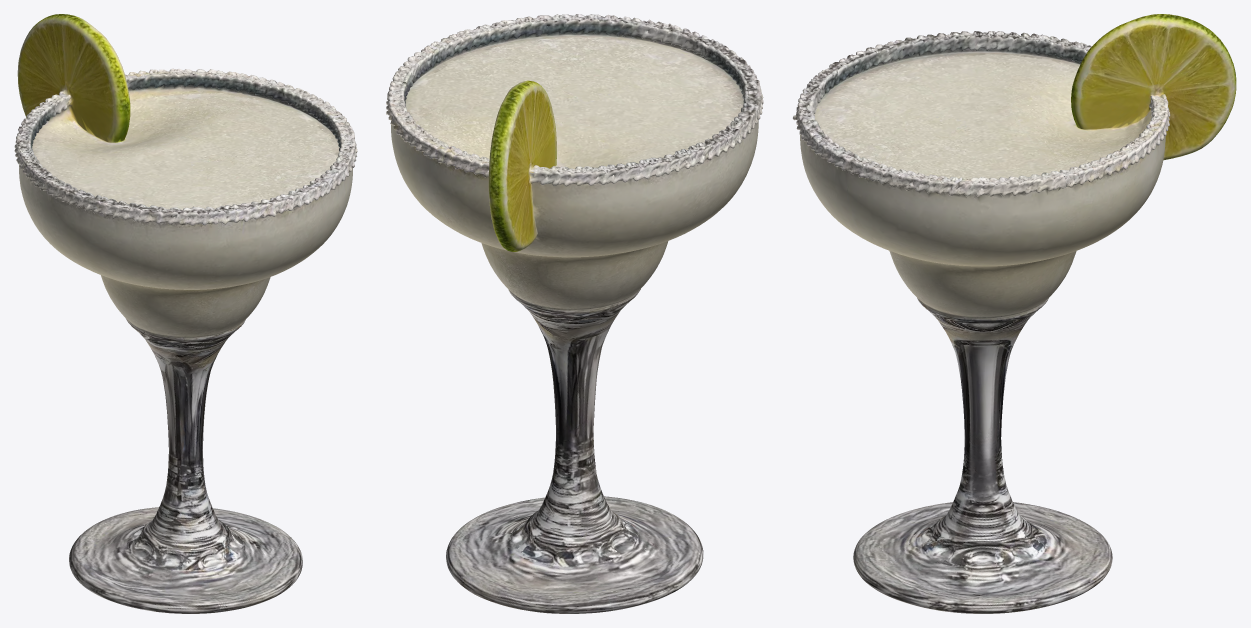
The model's file is modelo-09.glb.
3 views of the same model, side by side, from view 1: azimuth 30°, elevation 25°; view 2: azimuth 150°, elevation 25°; view 3: azimuth 270°, elevation 25° (orthographic). The views are drawn at different scales.
Parts seen in each view (by area): view 1: tripo_node_a587ac79-add5-4681-ba29-8030b3350d41; view 2: tripo_node_a587ac79-add5-4681-ba29-8030b3350d41; view 3: tripo_node_a587ac79-add5-4681-ba29-8030b3350d41.
Boxes of the visible parts, bbox=[...] form: tripo_node_a587ac79-add5-4681-ba29-8030b3350d41: bbox=[14, 14, 357, 613]; tripo_node_a587ac79-add5-4681-ba29-8030b3350d41: bbox=[386, 14, 763, 613]; tripo_node_a587ac79-add5-4681-ba29-8030b3350d41: bbox=[792, 14, 1236, 613].
Size of the model in its own units: 0.6136 by 0.9797 by 0.7411.
Materials: 1 (1 with a texture image).
